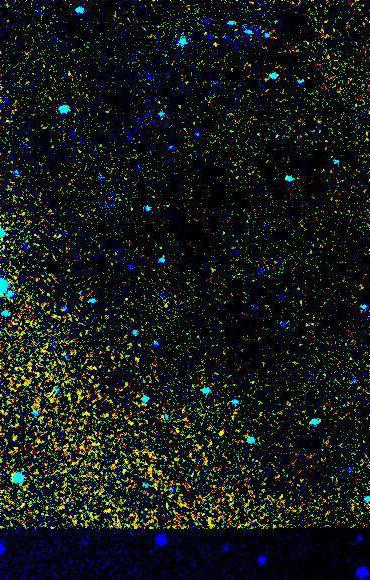star: (209, 415, 239, 445)
